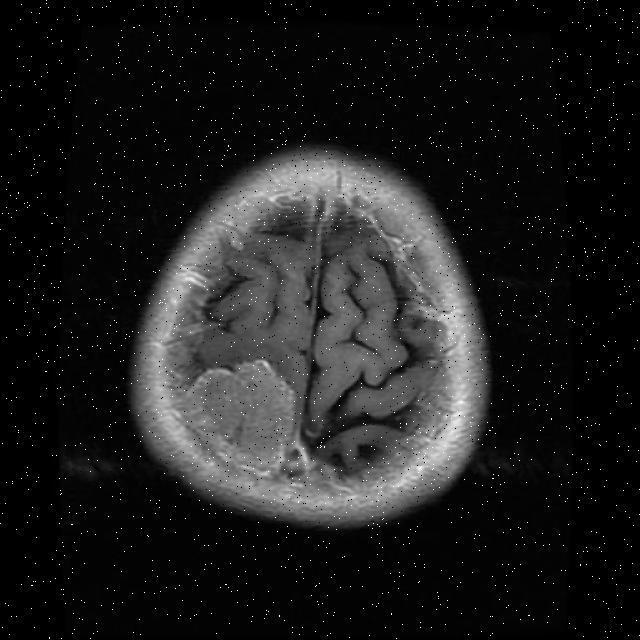Meningioma: (181, 361, 295, 468)
